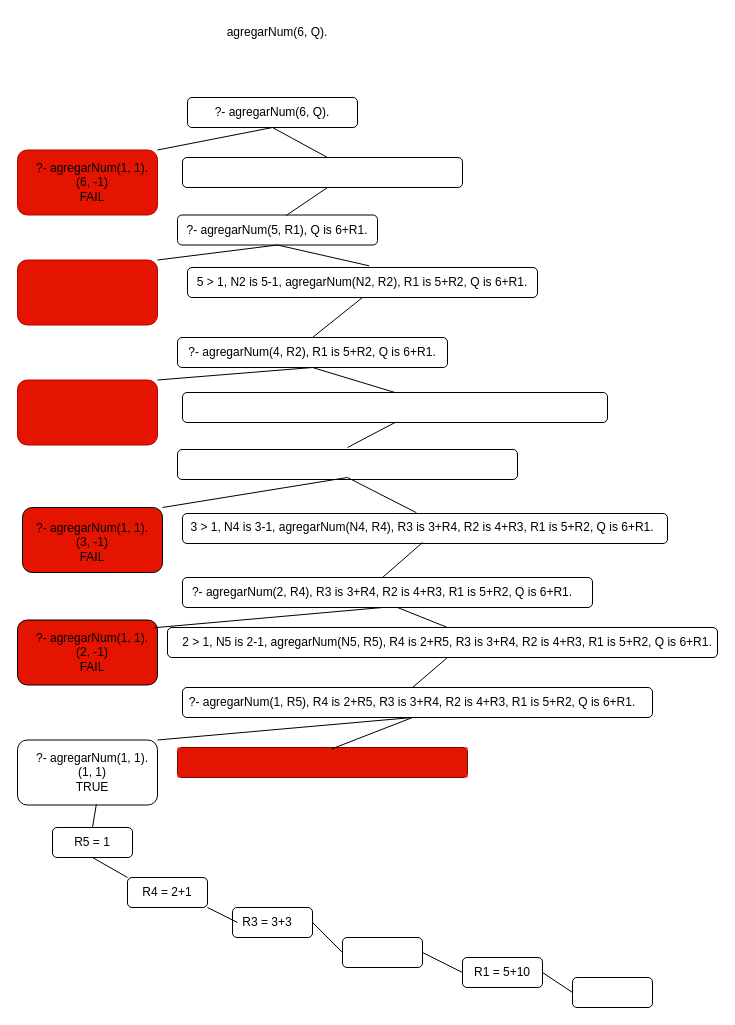
Image size: 735x1025. Some labels were removed from this diagram. Each missing label, with the centre of its shape:
1 > 1, N6 is 1-1, agregarNum(N6, R6), R5 is 2+R6. FAIL: the point at 322,762
4 > 1, N3 is 4-1, agregarNum(N3, R3), R2 is 4+R3, R1 is 5+R2, Q is 6+R1.: the point at 395,407
6 > 1, N1 is 6-1, agregarNum(N1, R1), Q is 6+R1.: the point at 322,172
?- agregarNum(1, 1). (4, -1) FAIL: the point at 87,412
?- agregarNum(1, 1). (5, -1) FAIL: the point at 87,292
?- agregarNum(3, R3), R2 is 4+R3, R1 is 5+R2, Q is 6+R1.: the point at 347,464
Q = 6+15 TRUE: the point at 612,992
R2 = 4+6: the point at 382,952
